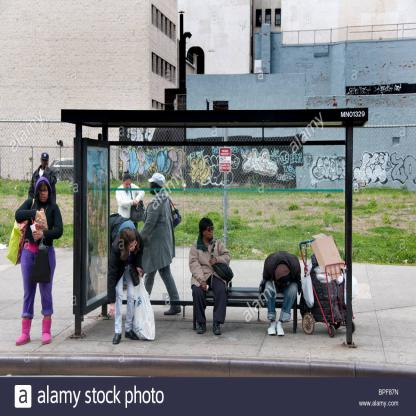Not_Wearing_Mask: (203, 223, 214, 242), (38, 184, 48, 202), (124, 178, 130, 189)
Wearing_Mask: (42, 156, 48, 169)
